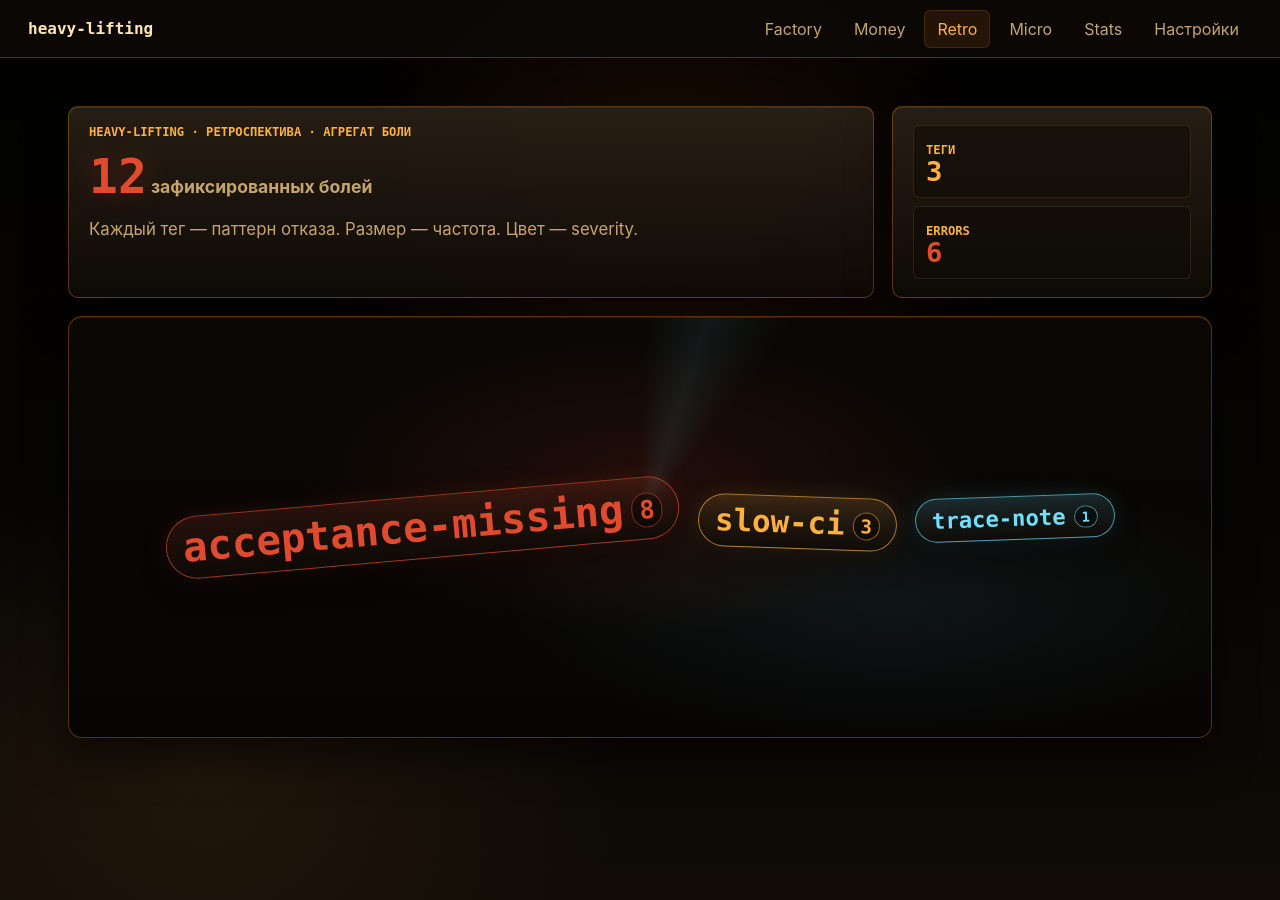
Test: App › loads retro tags, selects a tag, and keeps composer local-only
Expected: the text "12" is shown, [89,148,147,204]
Expected: the text "6" is shown, [926,237,942,268]
Click the button with aria-label "acceptance-missing: 8 entries, severity: error" at (423, 527), box [163,474,682,581]
(page scrolled)
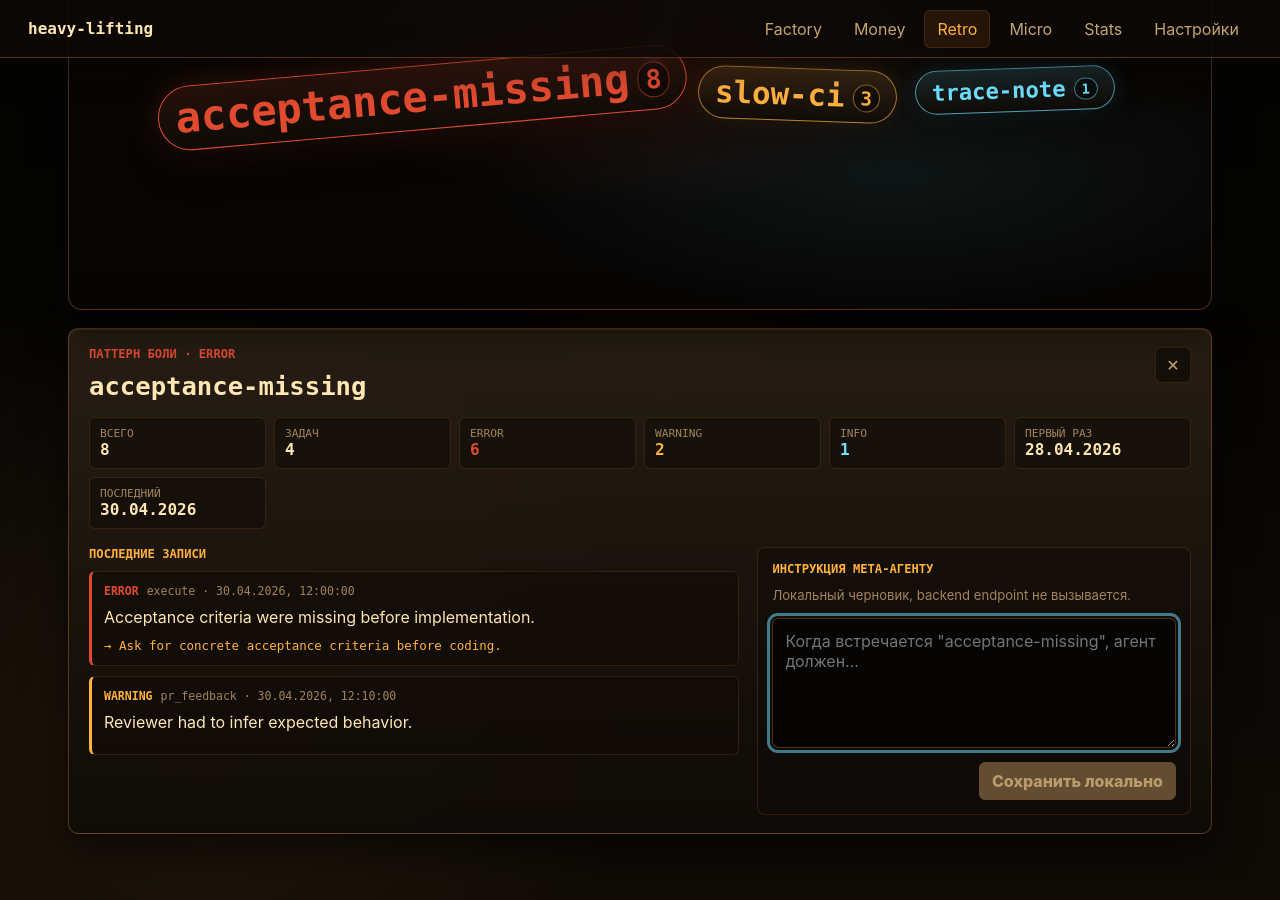
Expected: the text "Acceptance criteria were missing before implementation." is shown, [104,607,535,627]
Expected: the text "→ Ask for concrete acceptance criteria before coding." is shown, [104,638,502,653]
Type "stop and ask for acceptance criteria" into the text box with placeholder "Когда встречается \"acceptance-missing\", агент должен..." at (974, 683), box [772,618,1176,748]
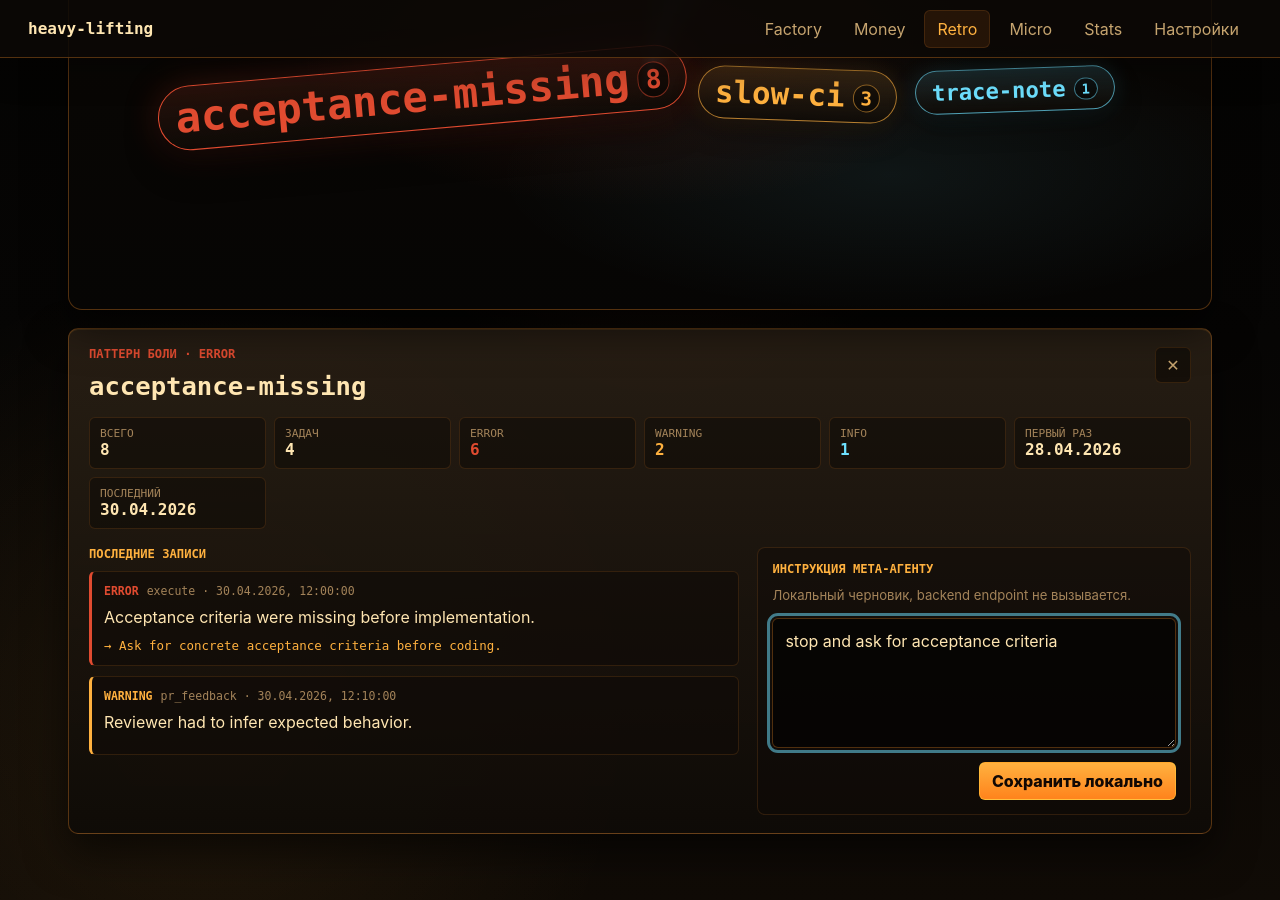
Click the button "Сохранить локально" at (1077, 781), box [979,762,1176,800]
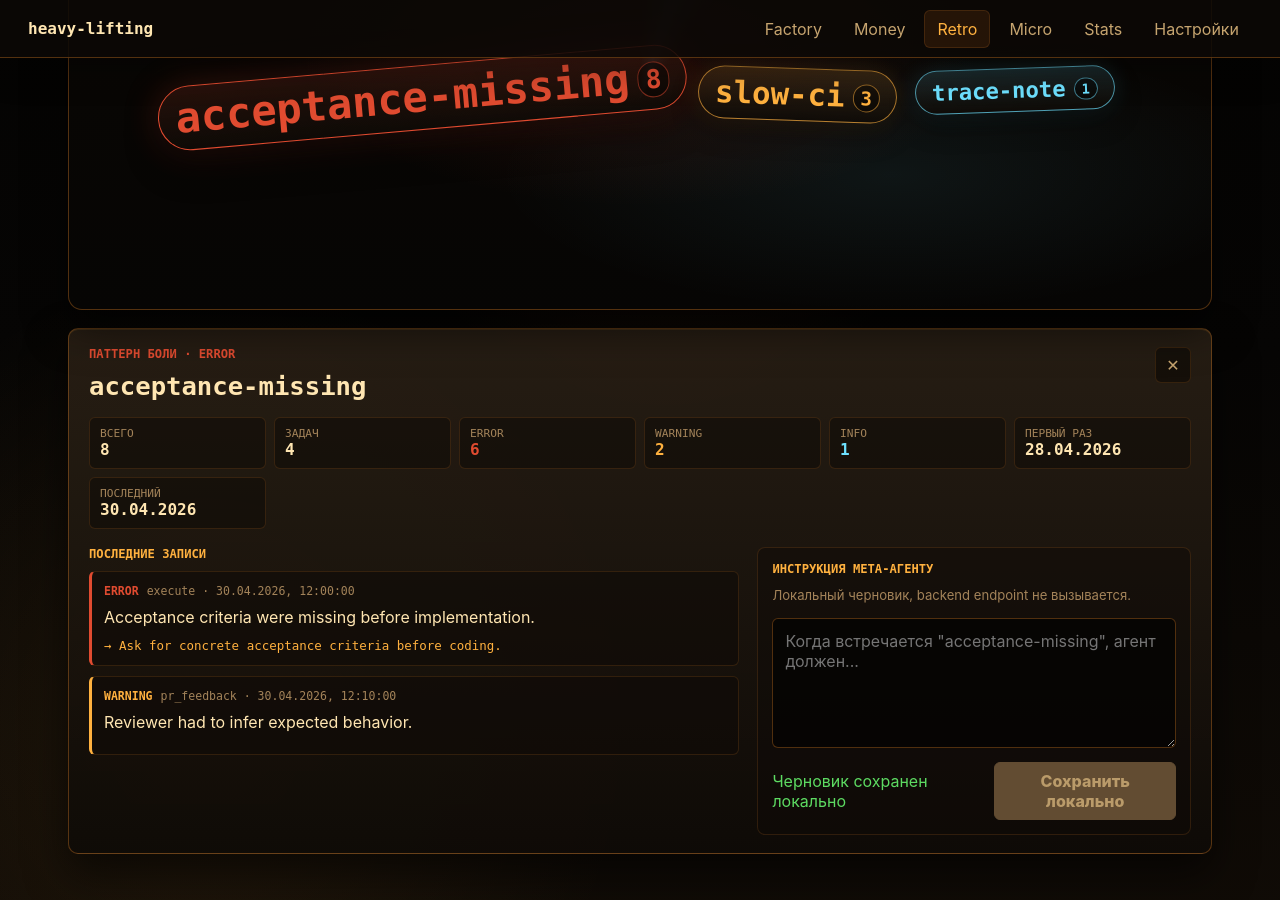
Expected: the text "Черновик сохранен локально" is shown, [772,771,928,811]
